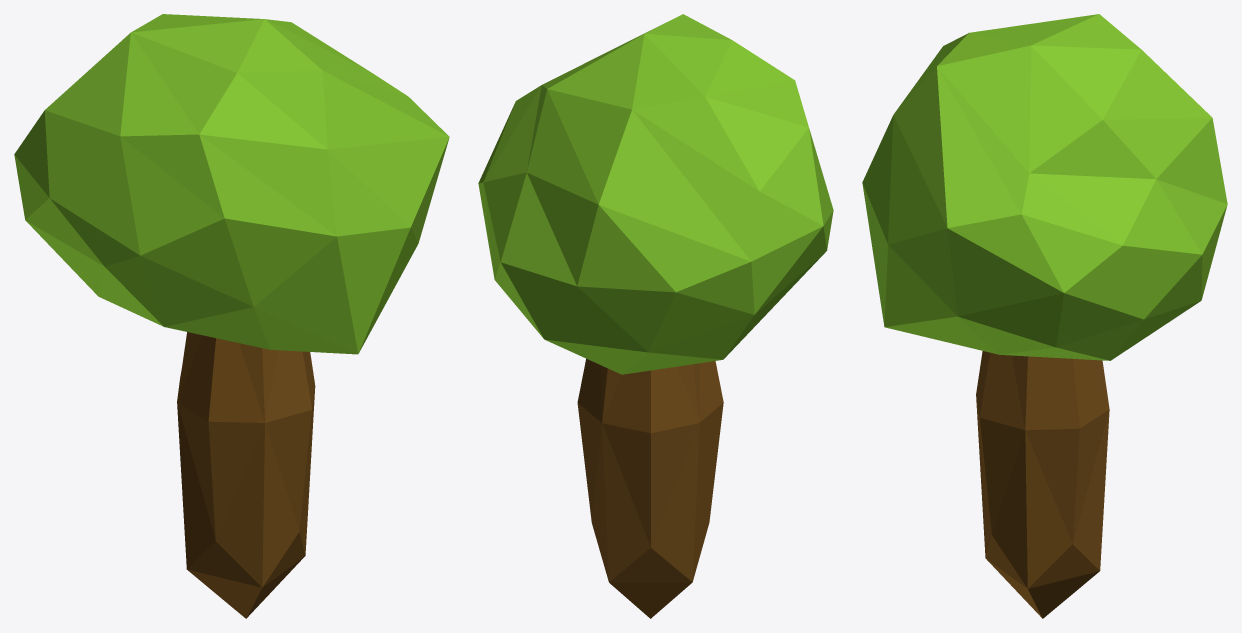
Rendered from tree15.dae.
3 renders of one model, left to right at view 1: azimuth 30°, elevation 25°; view 2: azimuth 150°, elevation 25°; view 3: azimuth 270°, elevation 25°, orthographic. The views are drawn at different scales.
Visible parts, largest first — view 1: Icosphere_059; view 2: Icosphere_059; view 3: Icosphere_059.
Part boxes in pixels (left/top/right/bottom): Icosphere_059: left=14, top=14, right=449, bottom=618; Icosphere_059: left=478, top=14, right=833, bottom=618; Icosphere_059: left=862, top=14, right=1227, bottom=618.
Bounding box in the file's own units: 1.34 × 1.24 × 2.17.
